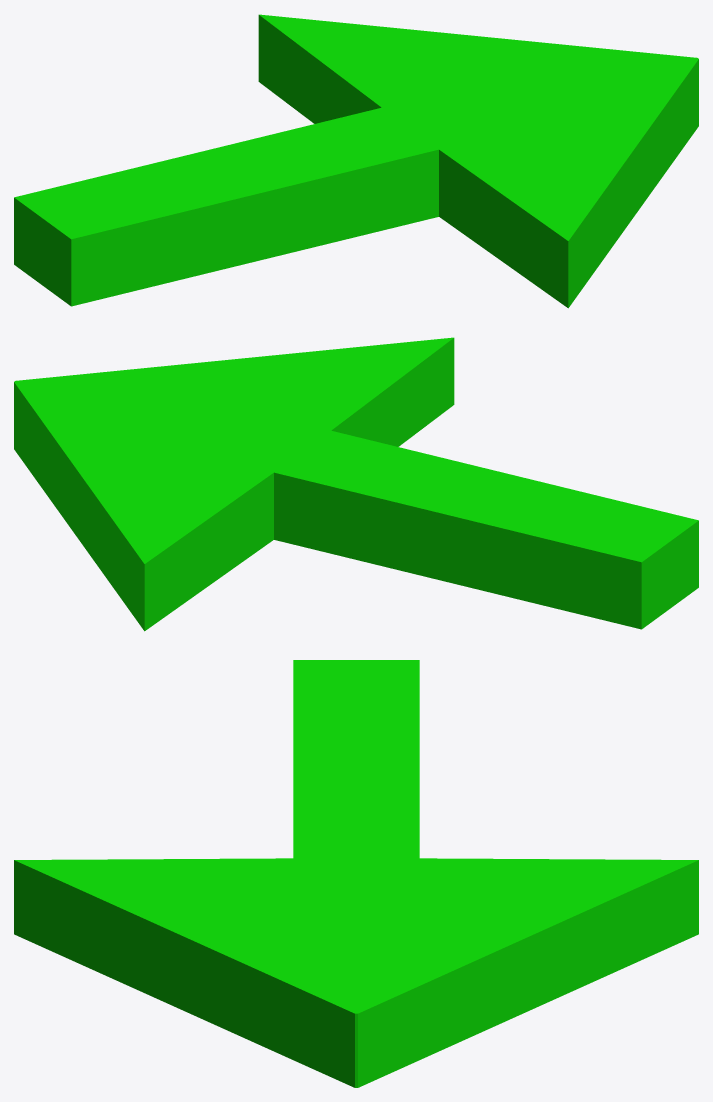
The model's file is asset.glb.
3 views of the same model, one above another, from view 1: azimuth 30°, elevation 25°; view 2: azimuth 150°, elevation 25°; view 3: azimuth 270°, elevation 25° (orthographic). The views are drawn at different scales.
Visible parts, largest first — view 1: Cube; view 2: Cube; view 3: Cube.
Part boxes in pixels (x1,y1,x2,y2): Cube: (14,14,698,308); Cube: (14,337,698,631); Cube: (14,660,698,1087).
Bounding box in the file's own units: 4.45 × 0.4363 × 3.64.
